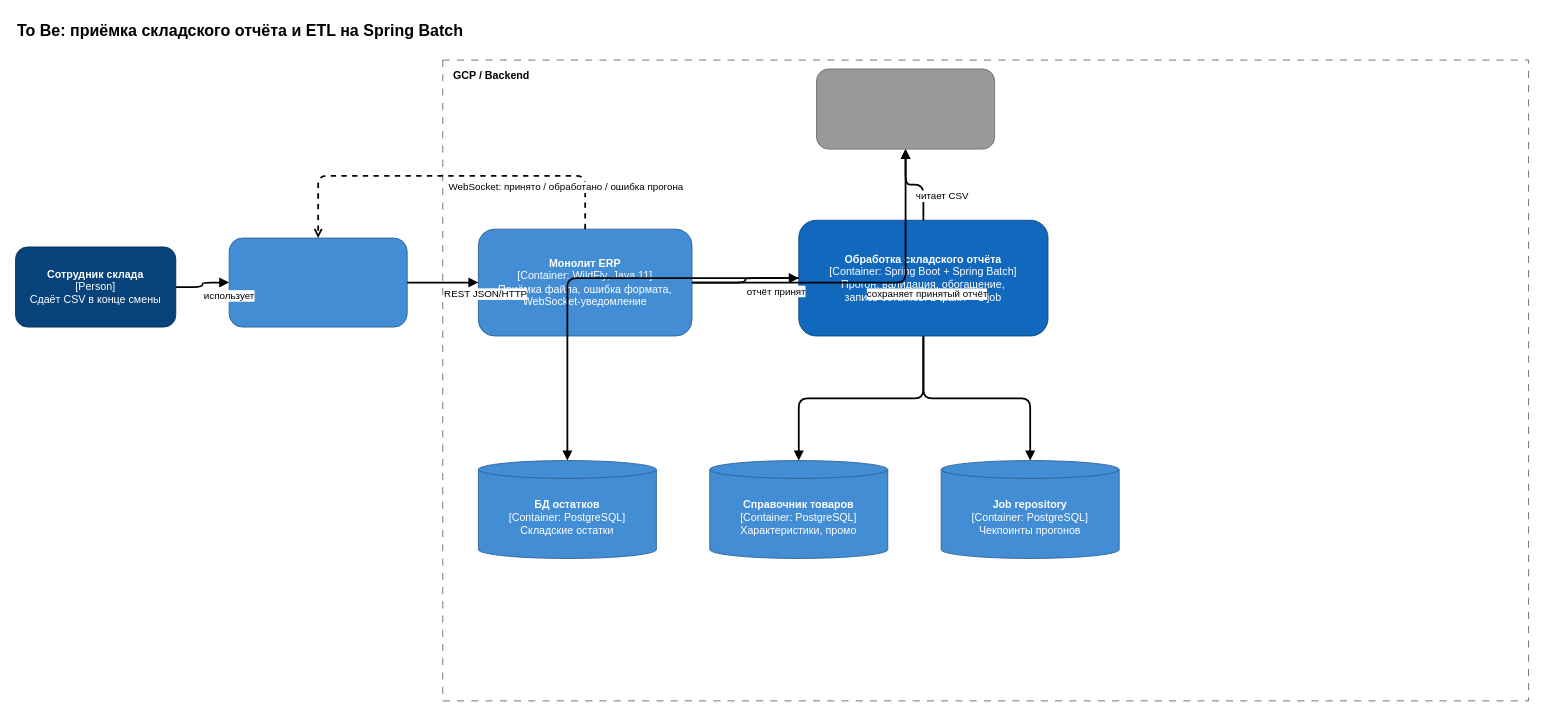
Image size: 1544x716. Some labels were removed from this diagram. The shapes that lost their labels are listed below. From the top down, each one's box as (x1, y1, x2, y2) in pixels, then its label:
(816, 68, 995, 149): Файловое хранилище [Container: GCS] Принятые CSV
(228, 237, 407, 327): Веб-интерфейс ERP [Container: Angular, WebSocket] Загрузка отчёта, статус
